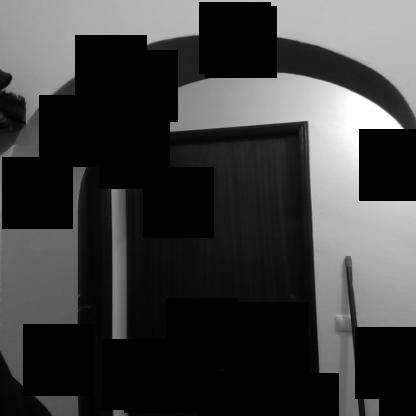Porte: (124, 119, 321, 416)
